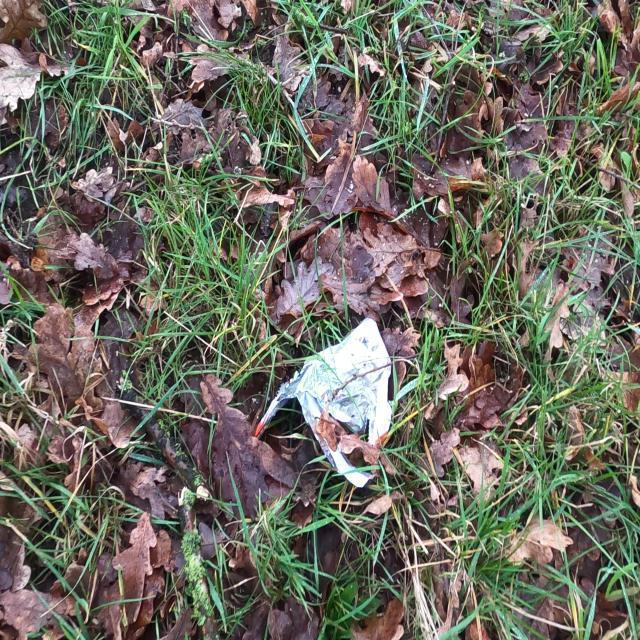Plastic: (254, 317, 394, 489)
